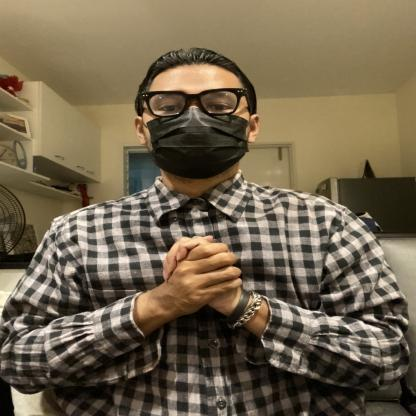Grieve: (101, 224, 331, 341)
